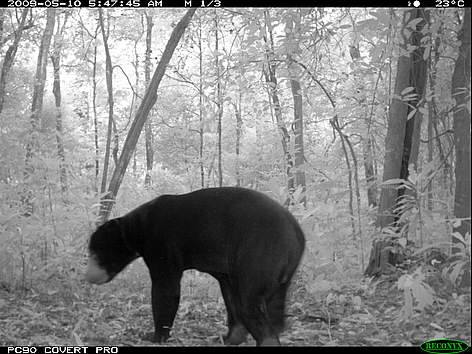bear: (74, 168, 318, 347)
